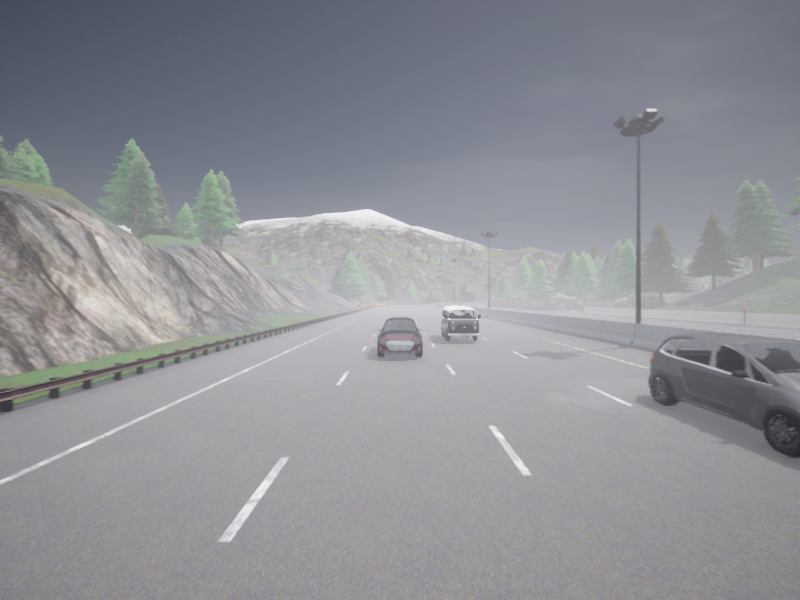vehicle: (648, 333, 799, 456), (377, 316, 422, 357), (441, 306, 480, 341), (458, 302, 462, 304)
